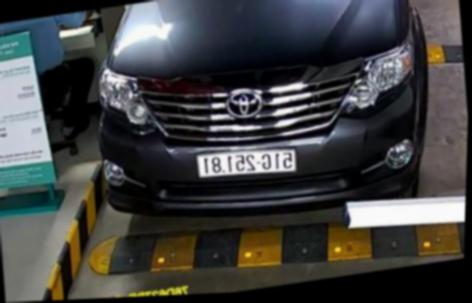License_Plate: (191, 140, 303, 196)
